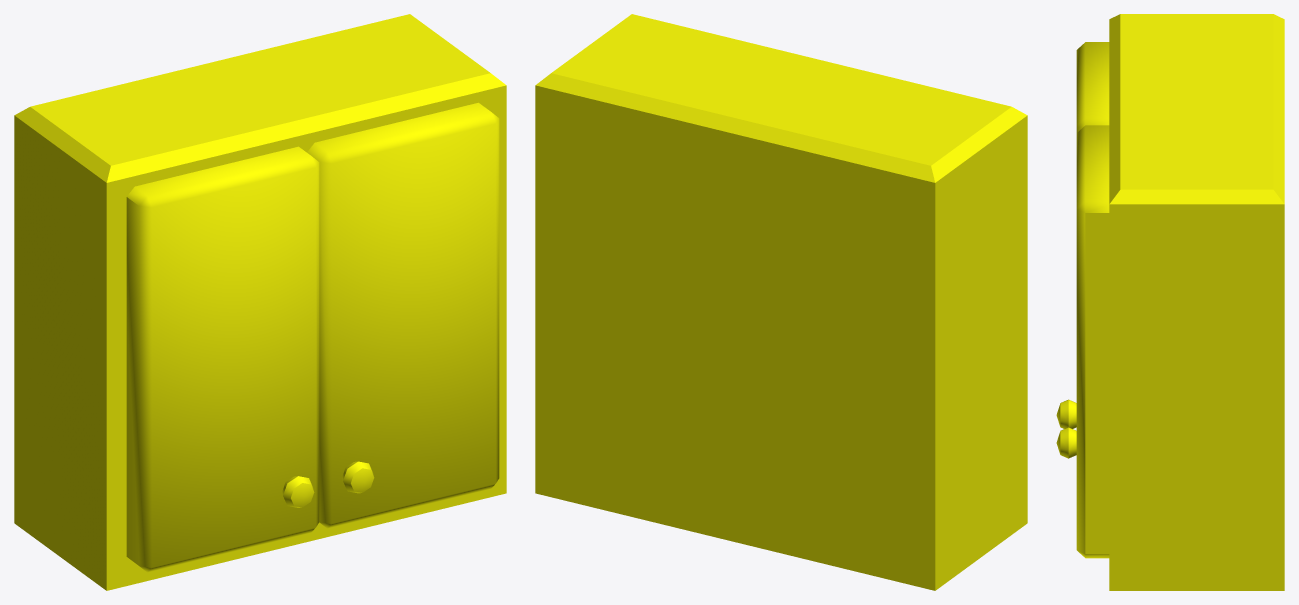
Rendered from kitchencabinet.gltf.
3 renders of one model, left to right at view 1: azimuth 30°, elevation 25°; view 2: azimuth 150°, elevation 25°; view 3: azimuth 270°, elevation 25°, orthographic. The views are drawn at different scales.
Visible parts, largest first — view 1: kitchencabinet; view 2: kitchencabinet; view 3: kitchencabinet.
Part boxes in pixels (x1=…): kitchencabinet: x1=14, y1=14, x2=506, y2=590; kitchencabinet: x1=535, y1=14, x2=1027, y2=590; kitchencabinet: x1=1056, y1=14, x2=1284, y2=590.
Size of the model in its own units: 2 by 2 by 1.04.
1 material, 1 textured.
